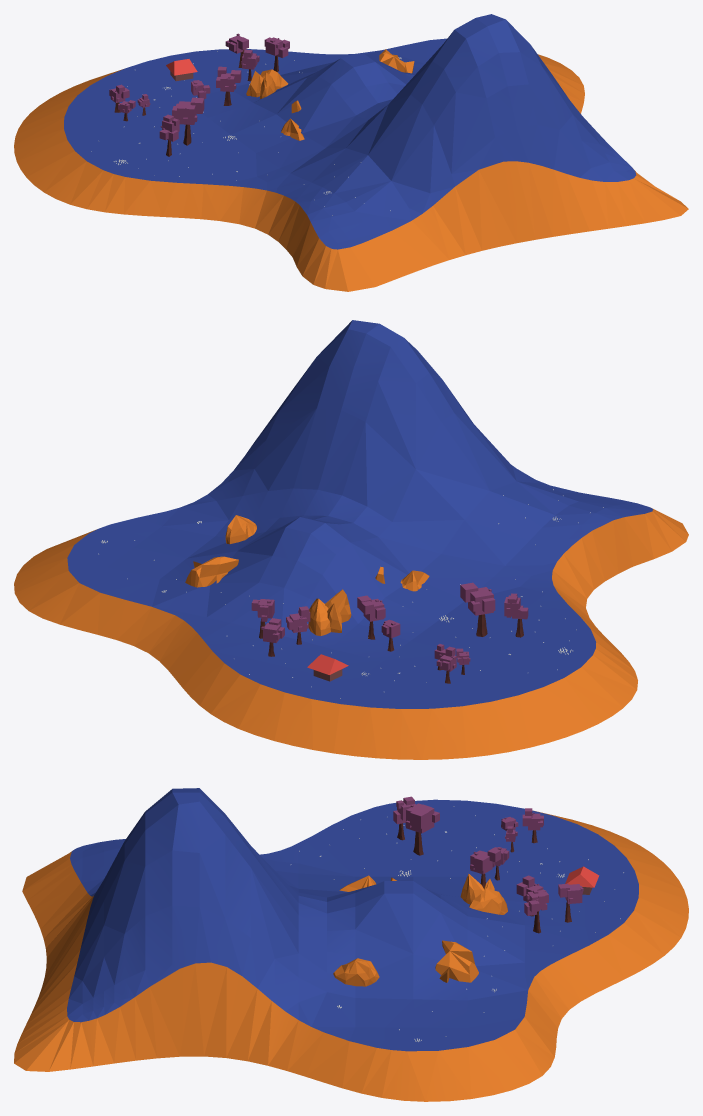
The picture shows the model from 3 angles, top to bottom: view 1: azimuth 30°, elevation 25°; view 2: azimuth 150°, elevation 25°; view 3: azimuth 270°, elevation 25°; orthographic projection. The views are drawn at different scales.
Parts seen in each view (by area): view 1: base, Object_13, Object_12, Object_6, Object_11, Object_15, Object_8; view 2: base, Object_13, Object_15, Object_12; view 3: base, Object_15, Object_13, Object_14, Object_12, Object_6, Object_8.
Boxes of the visible parts, x1,y1,x2,y2 form: base: (14, 14, 688, 291); Object_13: (246, 69, 288, 98); Object_12: (172, 97, 204, 124); Object_6: (216, 66, 241, 91); Object_11: (159, 114, 179, 141); Object_15: (379, 49, 414, 73); Object_8: (264, 37, 289, 57); base: (14, 320, 688, 759); Object_13: (308, 589, 351, 635); Object_15: (185, 556, 238, 587); Object_12: (460, 582, 495, 615); base: (14, 788, 688, 1101); Object_15: (435, 940, 478, 982); Object_13: (460, 874, 507, 914); Object_14: (333, 958, 379, 986); Object_12: (405, 803, 439, 833); Object_6: (470, 848, 500, 874); Object_8: (524, 890, 548, 915).
Size of the model in its own units: 114 by 35.77 by 110.
